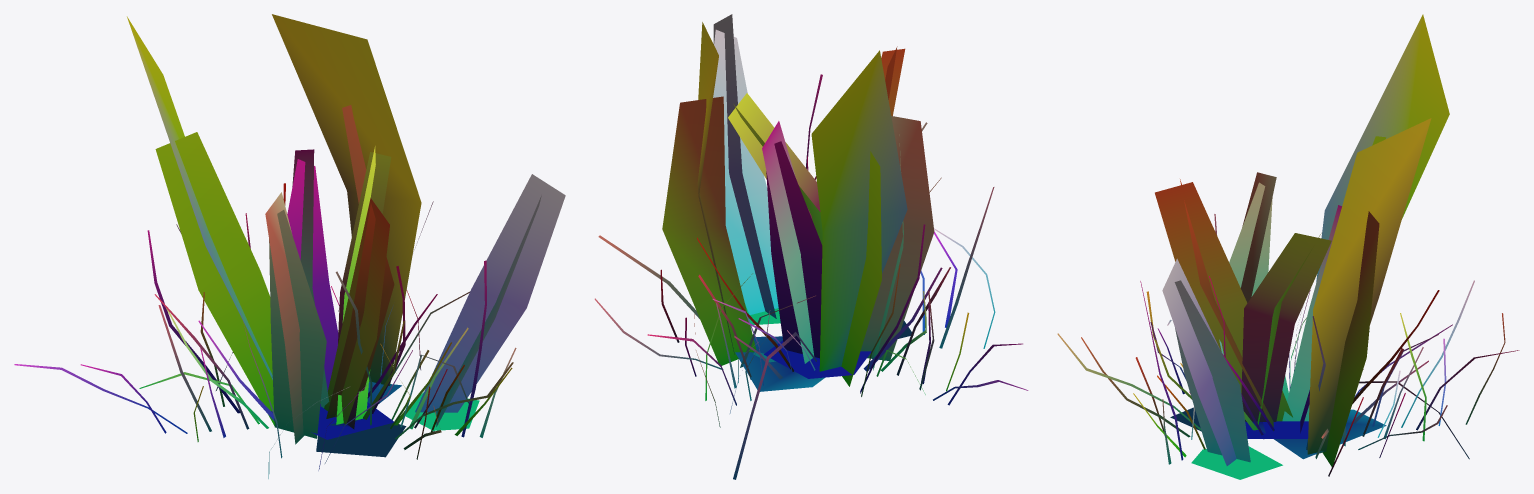
The model's file is uddmcgbia_VarB_LOD0.fbx.
3 views of the same model, side by side, from view 1: azimuth 30°, elevation 25°; view 2: azimuth 150°, elevation 25°; view 3: azimuth 270°, elevation 25° (orthographic). The views are drawn at different scales.
Parts seen in each view (by area): view 1: _d296_VarB_LOD2; view 2: _d296_VarB_LOD2; view 3: _d296_VarB_LOD2.
Boxes of the visible parts, <box> form: _d296_VarB_LOD2: <box>14,14,565,478</box>; _d296_VarB_LOD2: <box>594,14,1028,479</box>; _d296_VarB_LOD2: <box>1057,14,1519,479</box>.
Bounding box in the file's own units: 15.55 × 13.9 × 14.8.
